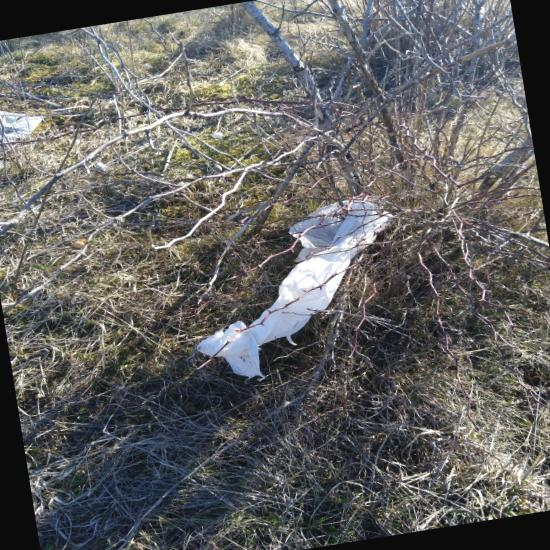Crisp packet: (325, 331, 392, 387), (328, 323, 389, 362)
Other plastic: (302, 374, 393, 429), (254, 408, 324, 443), (340, 288, 410, 319), (308, 301, 354, 343), (272, 227, 324, 264), (282, 299, 325, 341), (188, 220, 253, 247), (412, 399, 454, 435), (466, 329, 507, 363), (180, 235, 217, 270), (282, 191, 331, 212), (392, 218, 438, 238), (273, 322, 300, 347), (165, 235, 207, 249), (164, 208, 192, 225), (0, 115, 28, 129), (46, 126, 68, 143), (498, 464, 519, 480), (396, 136, 424, 147), (401, 288, 416, 306), (381, 274, 398, 289), (356, 262, 374, 274), (0, 110, 5, 118)
Other plastic container: (447, 223, 476, 264)
Plastic film: (225, 276, 328, 374), (326, 161, 413, 224), (244, 348, 322, 404), (411, 284, 486, 331), (384, 322, 431, 362), (60, 125, 99, 162), (288, 159, 327, 193), (418, 257, 465, 284), (433, 388, 472, 413), (235, 251, 263, 285), (198, 279, 232, 307)
Unlabeled litter: (253, 229, 279, 249)
